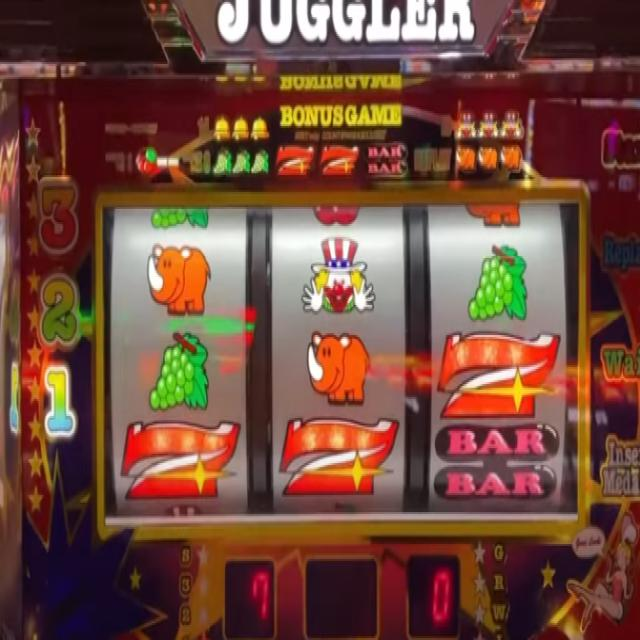bar: (432, 420, 561, 506), (366, 141, 407, 176)
bell: (212, 112, 231, 147), (250, 116, 270, 143), (232, 115, 249, 143)
cherry: (315, 202, 358, 225), (133, 146, 157, 175)
clown: (302, 237, 376, 314), (501, 110, 522, 143), (478, 108, 498, 141), (456, 112, 476, 139)
display: (99, 197, 582, 518)
elephant: (306, 329, 372, 405), (147, 242, 211, 313), (466, 200, 522, 228), (500, 145, 521, 172), (477, 147, 499, 172), (456, 145, 476, 172)
grape: (468, 243, 527, 324), (148, 332, 210, 409), (150, 203, 210, 231), (213, 147, 233, 175), (232, 148, 250, 178), (252, 151, 267, 173)
z: (438, 331, 560, 417), (279, 417, 398, 501), (121, 418, 238, 501), (278, 146, 314, 179), (322, 147, 358, 177)
